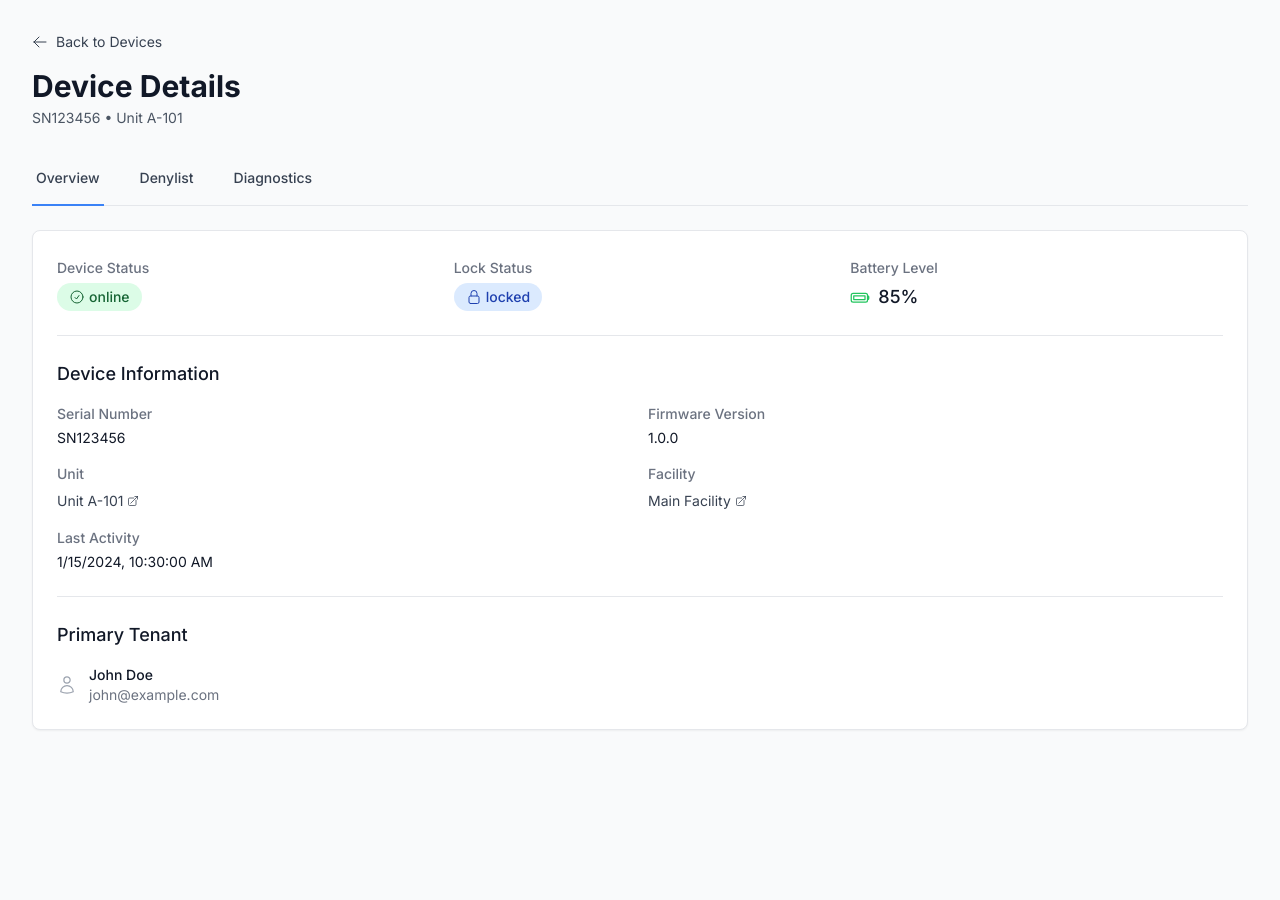
Test: DeviceDetailsPage › switches to denylist tab and loads entries
expect the heading "Device Details" is shown: met, box [32, 68, 241, 104]
Click the button "Denylist" at (166, 179), box [136, 152, 198, 206]
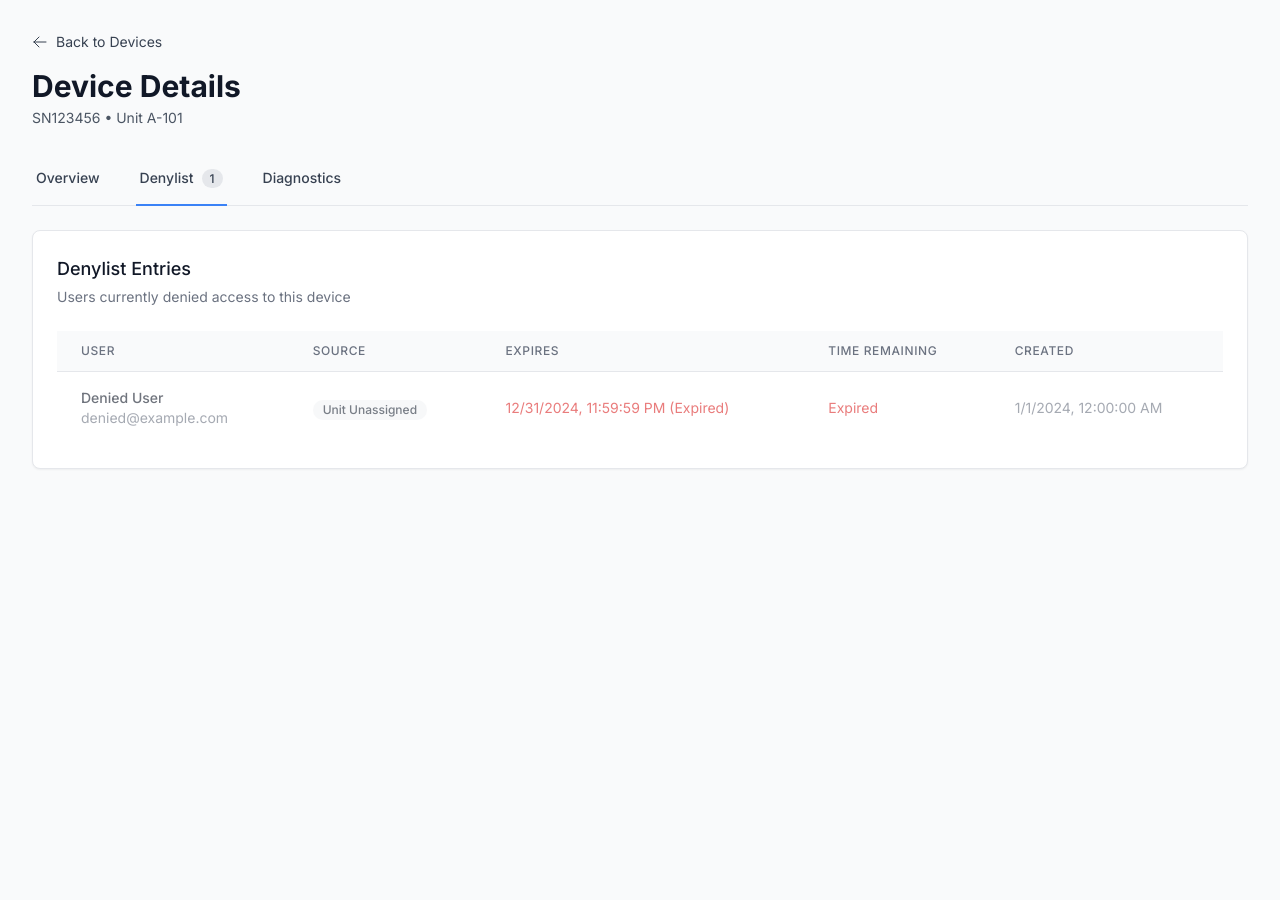
expect the text "Denied User" is shown: met, box [81, 389, 163, 406]
